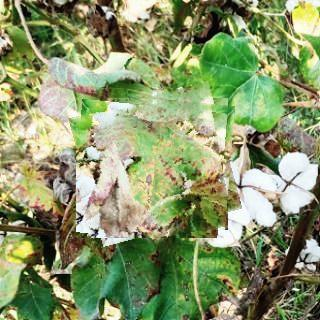blight: (76, 90, 235, 238), (53, 169, 176, 274)
